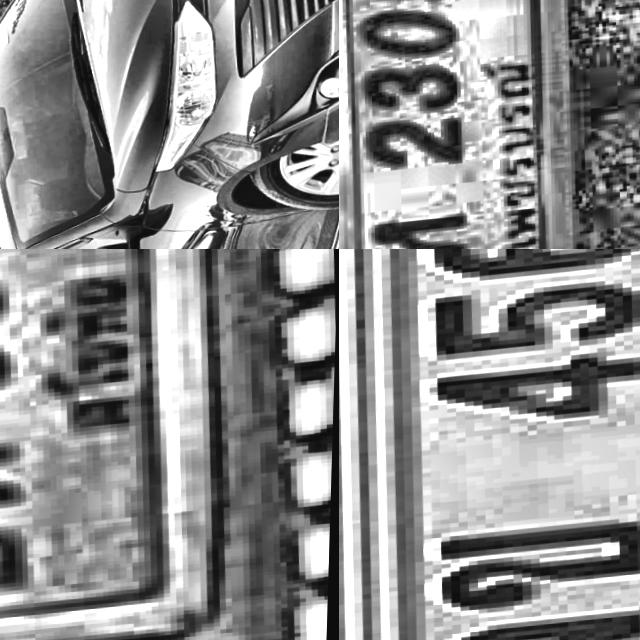license-plate: (339, 249, 640, 640), (0, 249, 229, 640), (339, 0, 590, 249)
